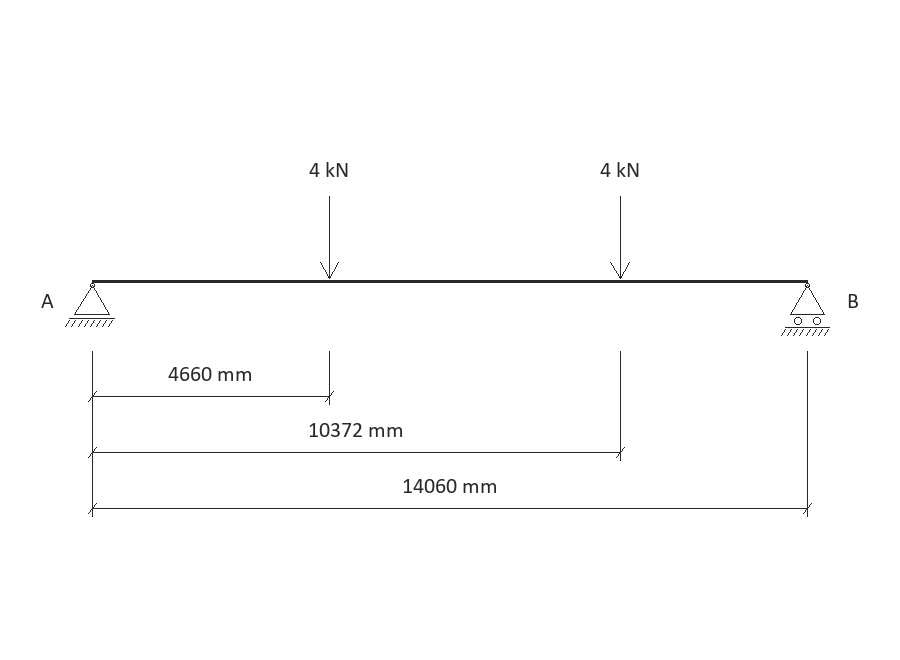pin_support: (65, 283, 115, 327)
point_load: (610, 196, 630, 279), (320, 196, 339, 279)
roller_support: (781, 283, 830, 336)
